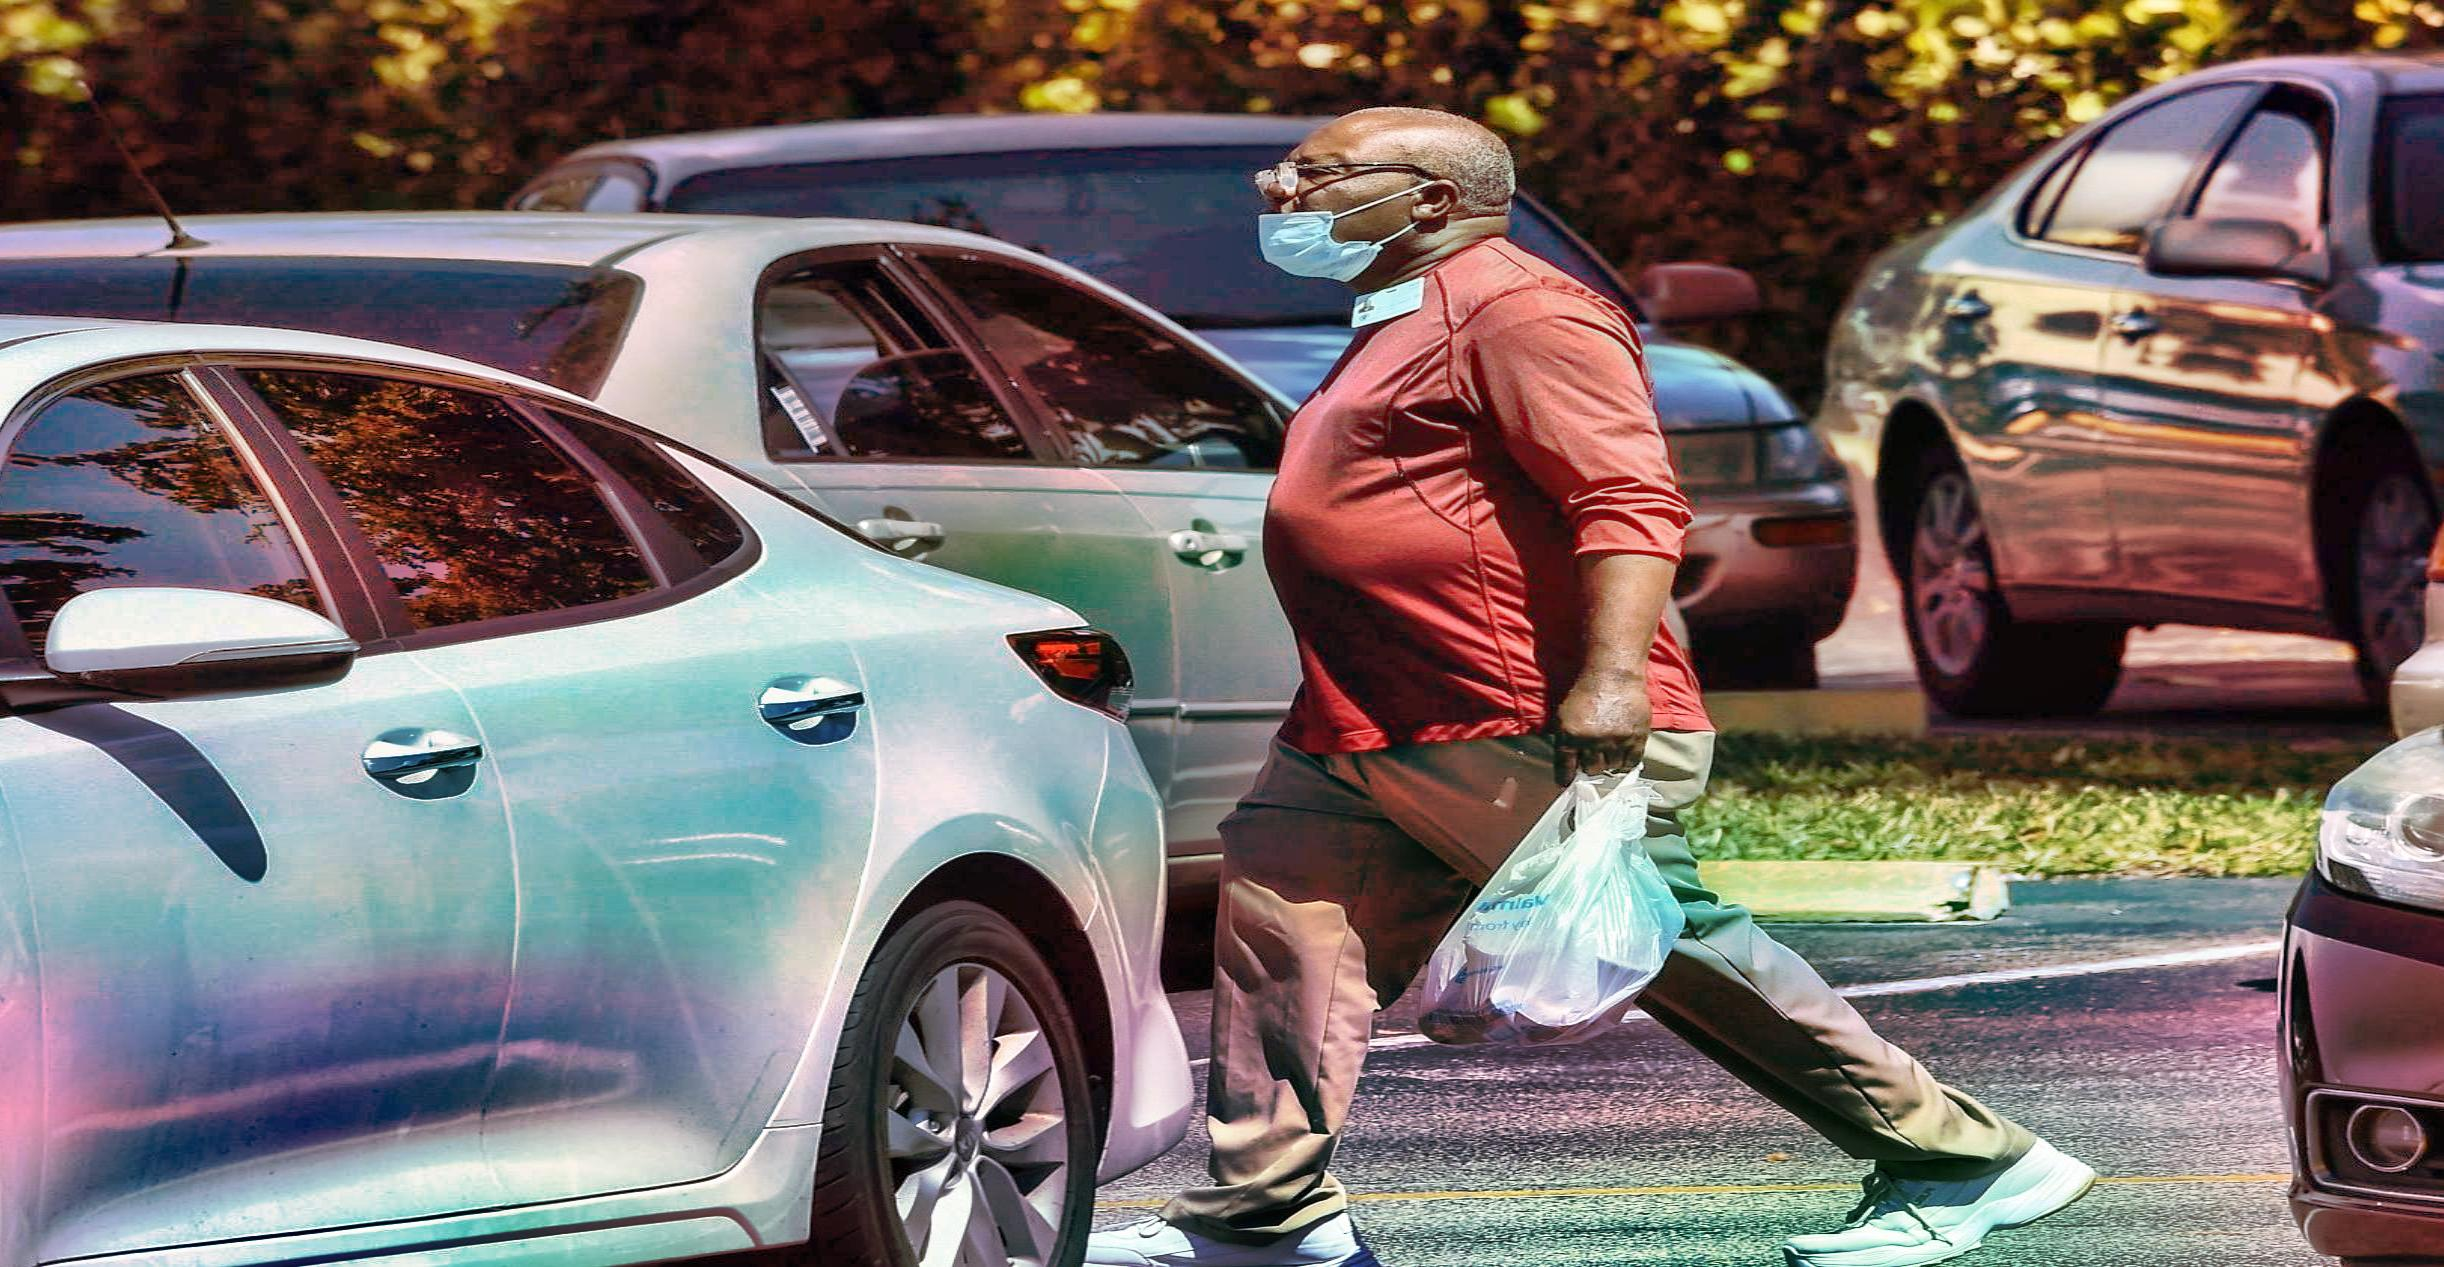mask_weared_incorrect: (1202, 98, 1482, 318), (1241, 106, 1533, 295)
